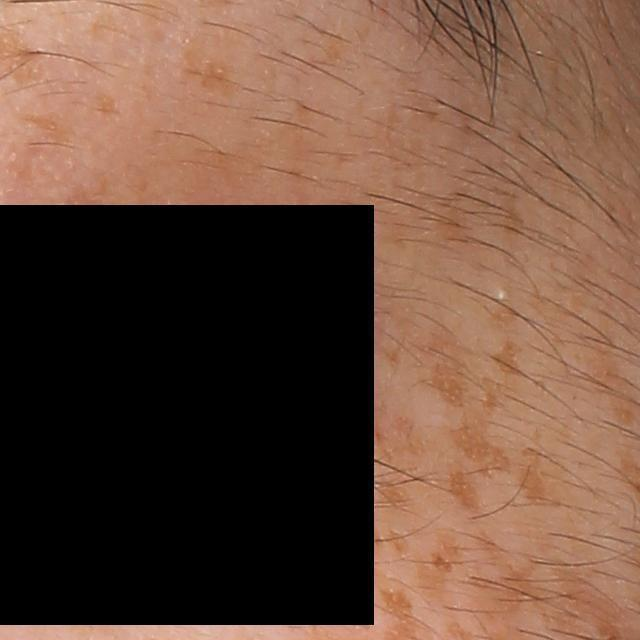comedo: (493, 287, 512, 306)
melasma: (383, 349, 514, 485), (401, 185, 480, 250), (513, 435, 573, 510), (177, 47, 239, 96), (64, 175, 114, 221), (22, 109, 82, 146), (444, 469, 485, 523), (486, 339, 526, 380), (497, 193, 528, 238), (94, 87, 127, 119)
